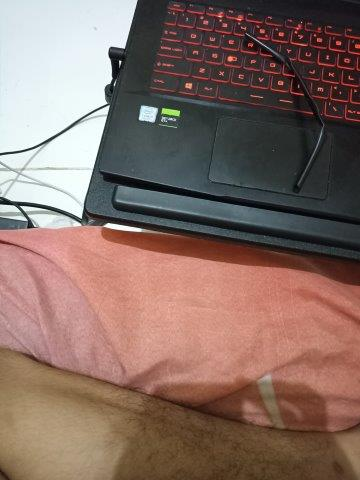sedotan: (246, 34, 326, 188)
